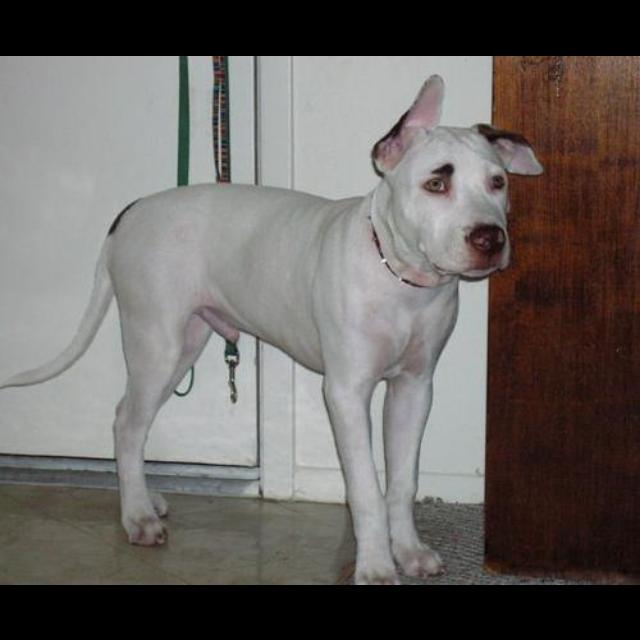amstaff: (1, 73, 545, 585)
